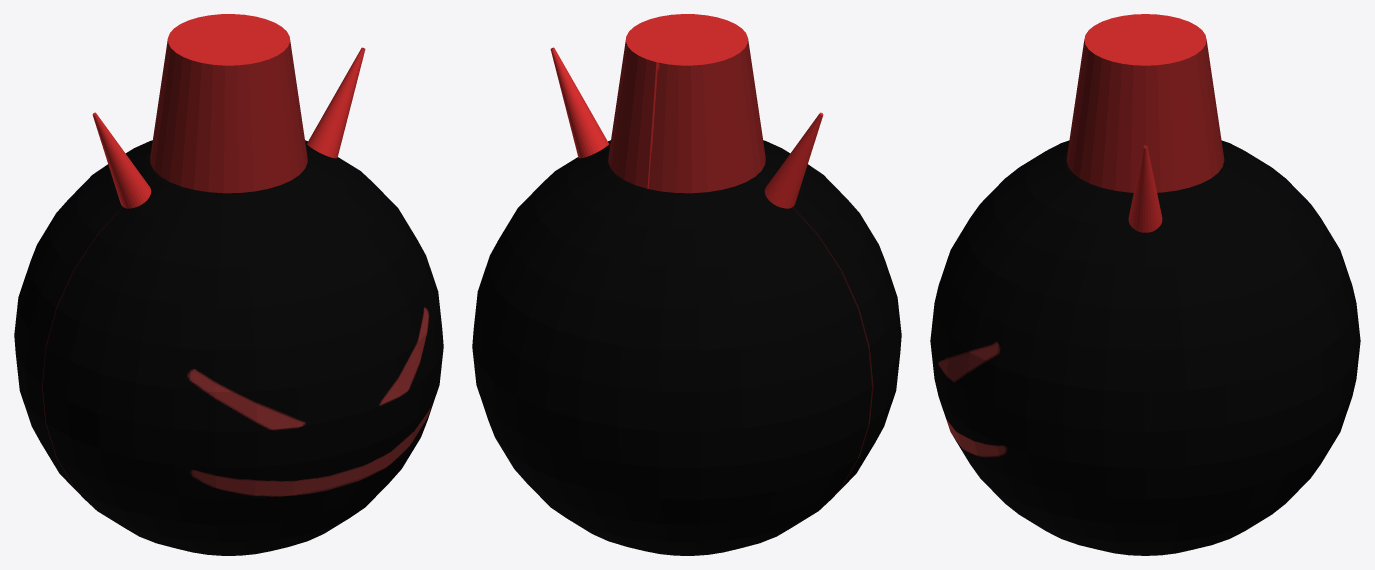
The model's file is enemyhead.obj.
3 renders of one model, left to right at view 1: azimuth 30°, elevation 25°; view 2: azimuth 150°, elevation 25°; view 3: azimuth 270°, elevation 25°, orthographic.
Visible parts, largest first — view 1: 円柱.007; view 2: 円柱.007; view 3: 円柱.007.
Part boxes in pixels (<box>): 円柱.007: <box>14,14,443,555</box>; 円柱.007: <box>472,14,901,555</box>; 円柱.007: <box>930,14,1360,555</box>.
Size of the model in its own units: 1.36 by 1.73 by 1.36.
Materials: 1 (1 with a texture image).
